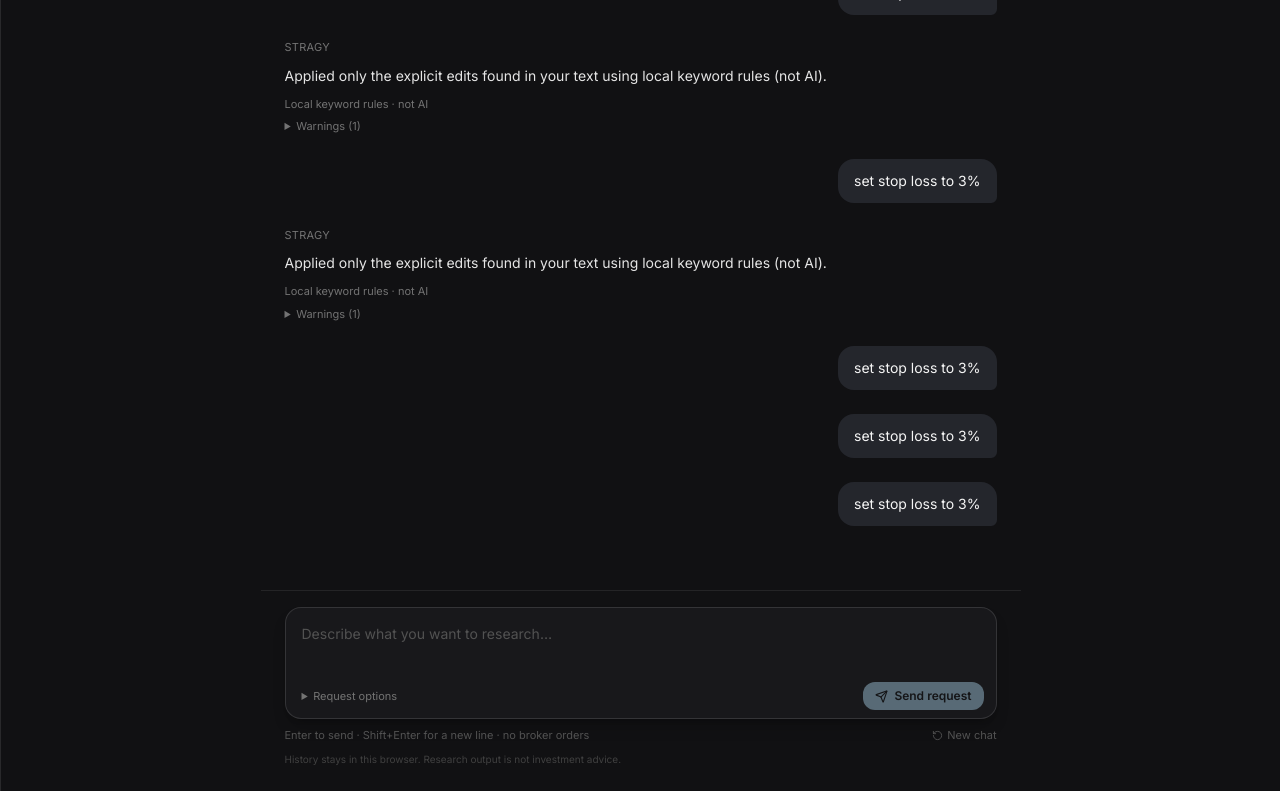
Test case: proposal dock review and explicit actions › shows the server failure message without producing a review card
The image size is (1280, 791).
(page scrolled)
Type "set stop loss to 3%" into the text box named "Research request".
click(640, 646); type("set stop loss to 3%")  # box [298,616,984,676]
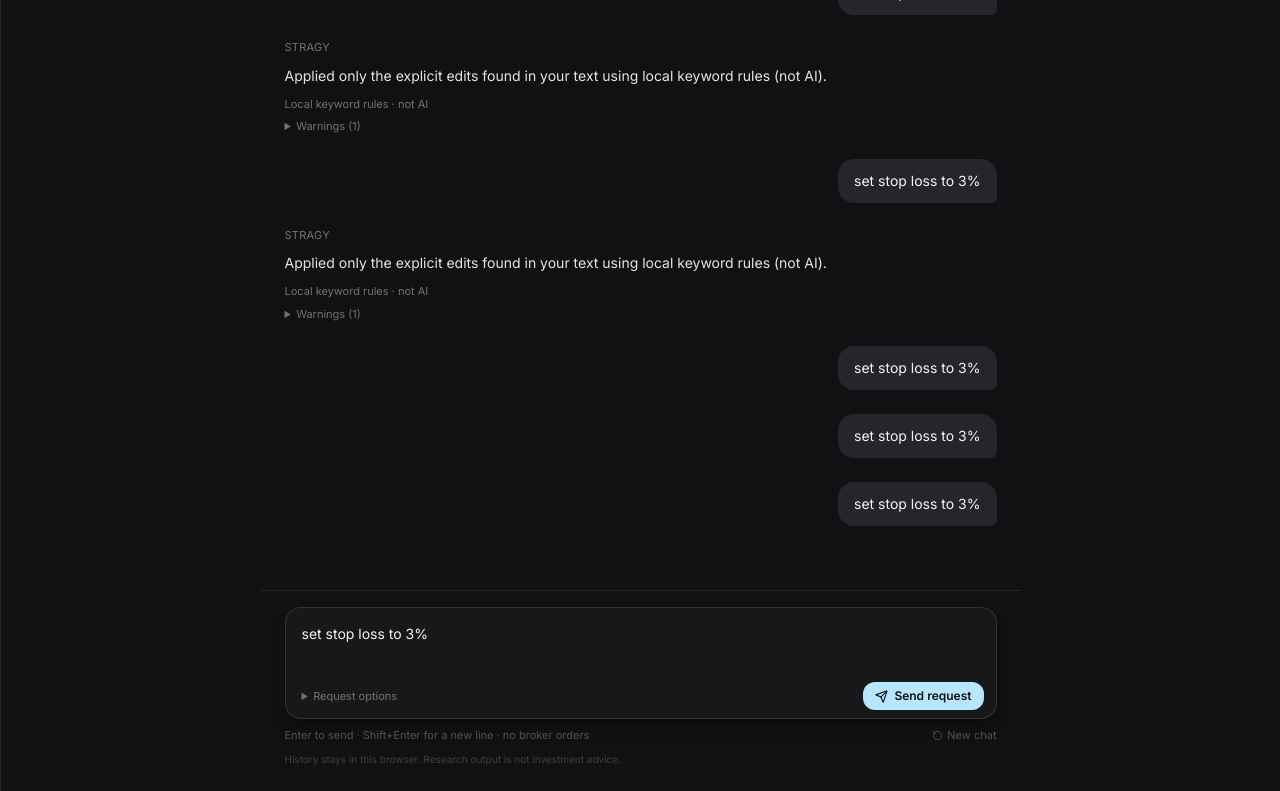
Click the button "Send request".
click(923, 696)  # box [863,682,984,710]
(page scrolled)
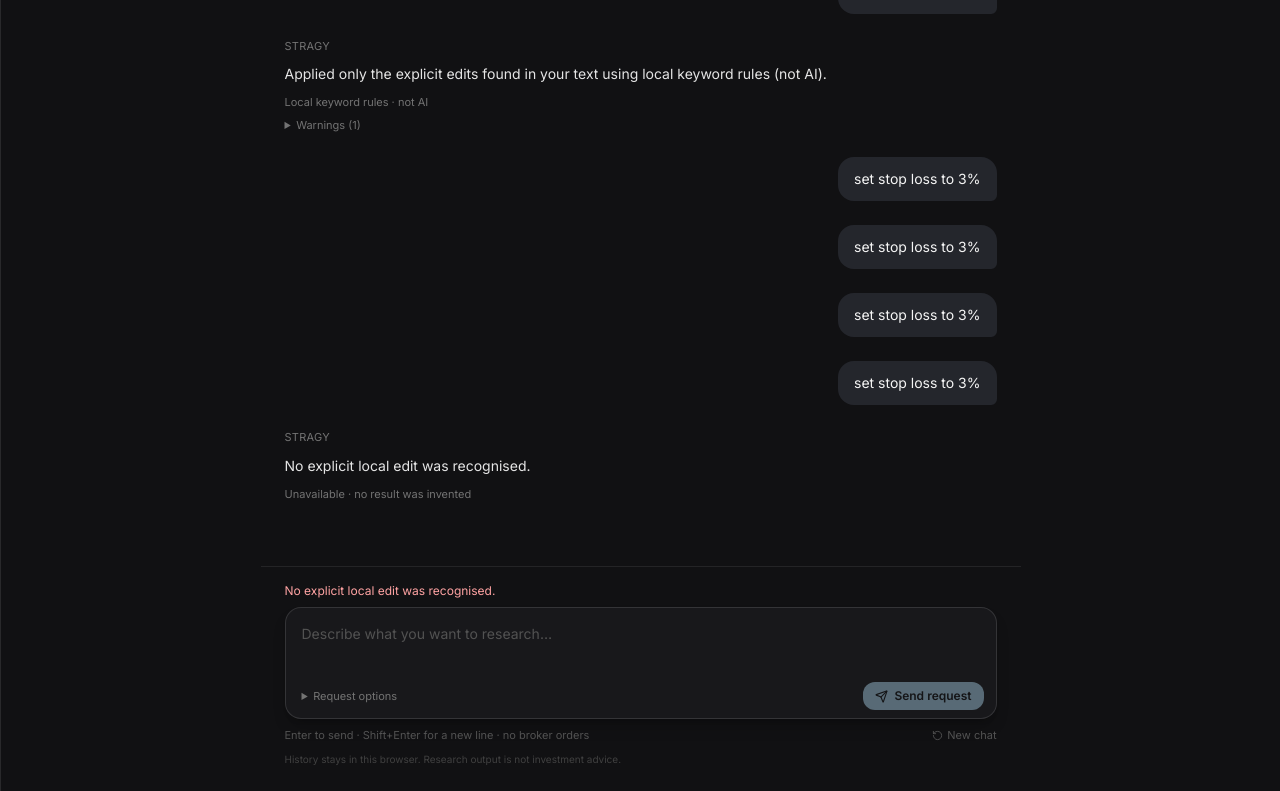
Check: the message reads "No explicit local edit was recognised.", box [284,583,495,598]
